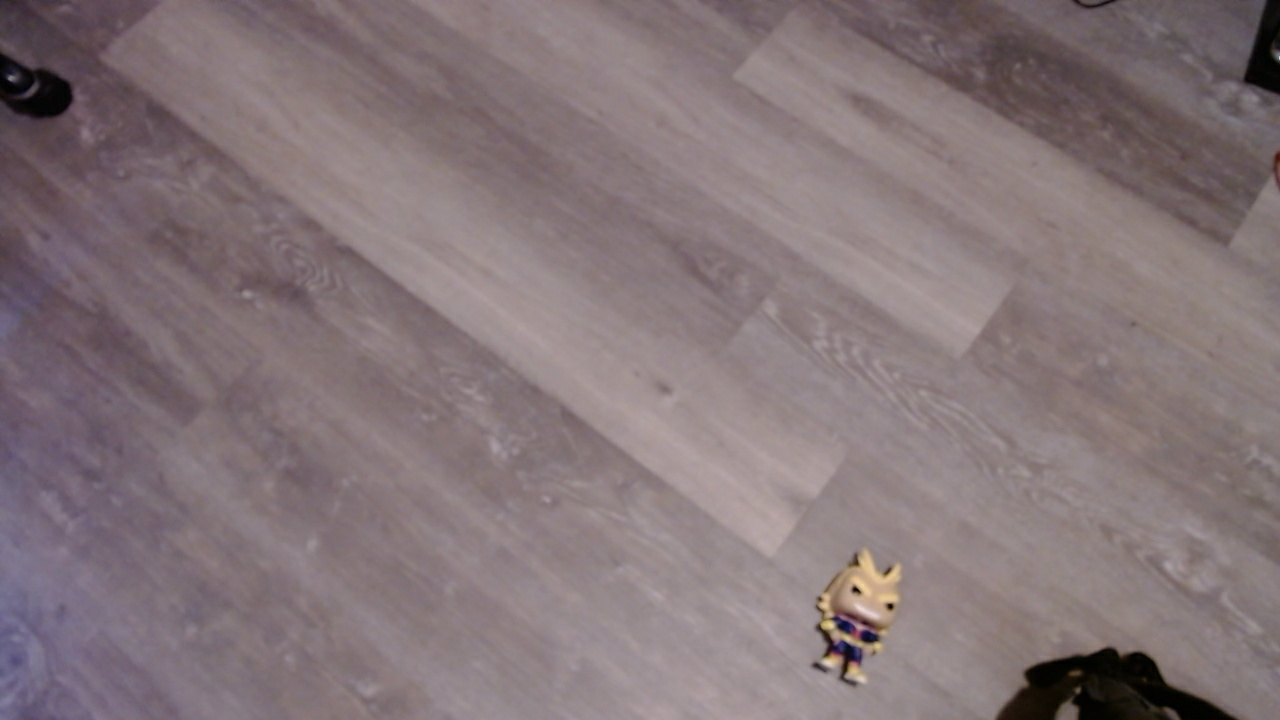all_might: (805, 551, 919, 691)
